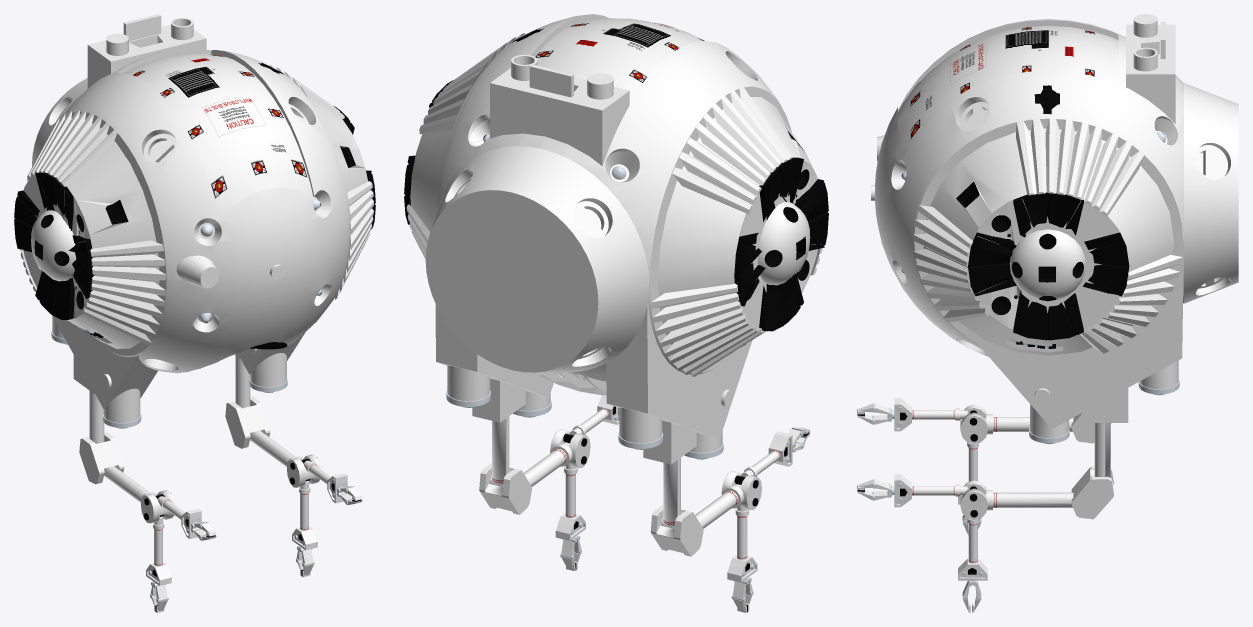
Rendered from eva_pod.obj.
The picture shows the model from 3 angles, left to right: view 1: azimuth 30°, elevation 25°; view 2: azimuth 150°, elevation 25°; view 3: azimuth 270°, elevation 25°; orthographic projection. The views are drawn at different scales.
Visible parts, largest first — view 1: pod_hull02, pod_hull_flat04, pod_hull_hatch02, pod_hull_black06, pod_arm_flat02, pod_arm_flat03, pod_hull_silver10, pod_arm_smooth03, pod_arm_smooth02, pod_arm_12, pod_arm_05, pod_arm_06 (+1 smaller); view 2: pod_hull_flat04, pod_hull02, pod_hull_black06, pod_hull_hatch02, pod_arm_flat03, pod_arm_flat02, pod_hull_silver10, pod_arm_smooth03, pod_arm_smooth02, pod_arm_12, pod_arm_05, pod_arm_06 (+1 smaller); view 3: pod_hull02, pod_hull_flat04, pod_hull_black06, pod_hull_hatch02, pod_arm_flat02, pod_arm_flat03, pod_arm_06, pod_arm_smooth02, pod_arm_smooth03, pod_arm_05, pod_hull_silver10, pod_arm_11.
Part boxes in pixels (box(x1,y1,x2,y2)): pod_hull02: box(27, 18, 367, 422); pod_hull_flat04: box(20, 14, 373, 409); pod_hull_hatch02: box(124, 53, 313, 219); pod_hull_black06: box(14, 106, 375, 349); pod_arm_flat02: box(225, 396, 362, 577); pod_arm_flat03: box(79, 432, 216, 612); pod_hull_silver10: box(51, 198, 322, 427); pod_arm_smooth03: box(141, 490, 174, 529); pod_arm_smooth02: box(287, 454, 320, 493); pod_arm_12: box(89, 390, 104, 443); pod_arm_05: box(235, 355, 250, 408); pod_arm_06: box(250, 430, 294, 466); pod_hull_flat04: box(406, 14, 822, 464); pod_hull02: box(410, 15, 815, 452); pod_hull_black06: box(404, 80, 828, 345); pod_hull_hatch02: box(535, 18, 704, 97); pod_arm_flat03: box(650, 427, 810, 612); pod_arm_flat02: box(479, 395, 619, 570); pod_hull_silver10: box(446, 134, 755, 458); pod_arm_smooth03: box(721, 466, 761, 516); pod_arm_smooth02: box(550, 425, 590, 474); pod_arm_12: box(663, 458, 680, 526); pod_arm_05: box(492, 416, 509, 484); pod_arm_06: box(523, 449, 566, 486); pod_hull02: box(871, 14, 1238, 438); pod_hull_flat04: box(891, 20, 1231, 428); pod_hull_black06: box(901, 133, 1164, 348); pod_hull_hatch02: box(898, 25, 1118, 163); pod_arm_flat02: box(857, 466, 1113, 612); pod_arm_flat03: box(857, 398, 1111, 535); pod_arm_06: box(993, 492, 1073, 507); pod_arm_smooth02: box(955, 480, 992, 524); pod_arm_smooth03: box(955, 404, 992, 448); pod_arm_05: box(1094, 423, 1110, 477); pod_hull_silver10: box(901, 132, 1179, 443); pod_arm_11: box(993, 417, 1073, 431).
Bounding box in the file's own units: 3.29 × 5.1 × 3.25.
